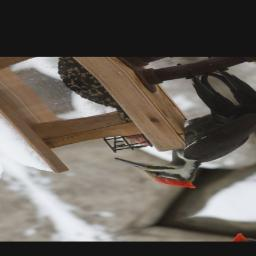Woodpecker: (59, 68, 256, 204)
